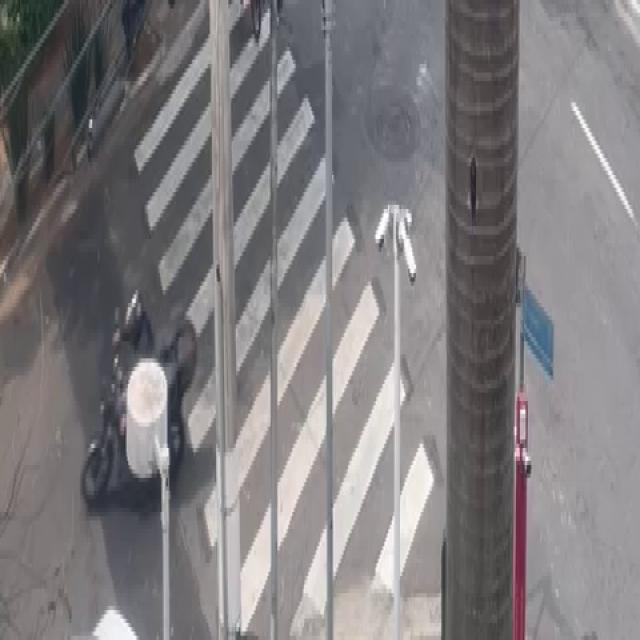motorbike: (92, 280, 195, 545)
